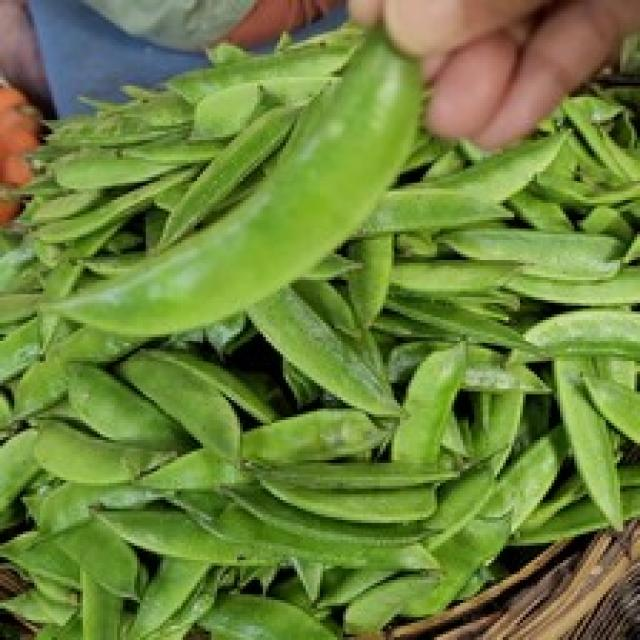Bean: (0, 17, 637, 637), (31, 20, 426, 337)
